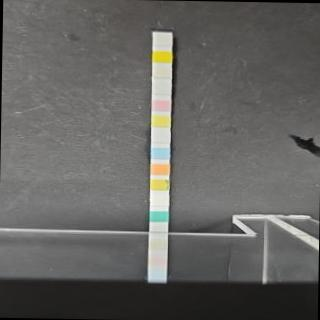mark: (152, 50, 172, 64), (150, 146, 170, 160), (151, 114, 170, 128), (152, 34, 172, 47), (152, 66, 172, 79), (152, 82, 172, 95), (150, 162, 170, 175), (150, 194, 170, 207), (152, 98, 170, 112), (151, 130, 170, 142), (150, 210, 168, 222), (150, 179, 169, 190)
